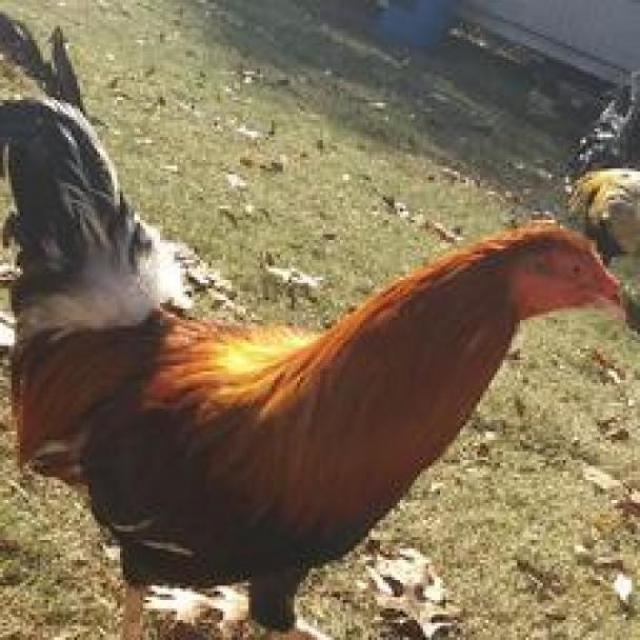Chicken: (4, 66, 633, 637)
